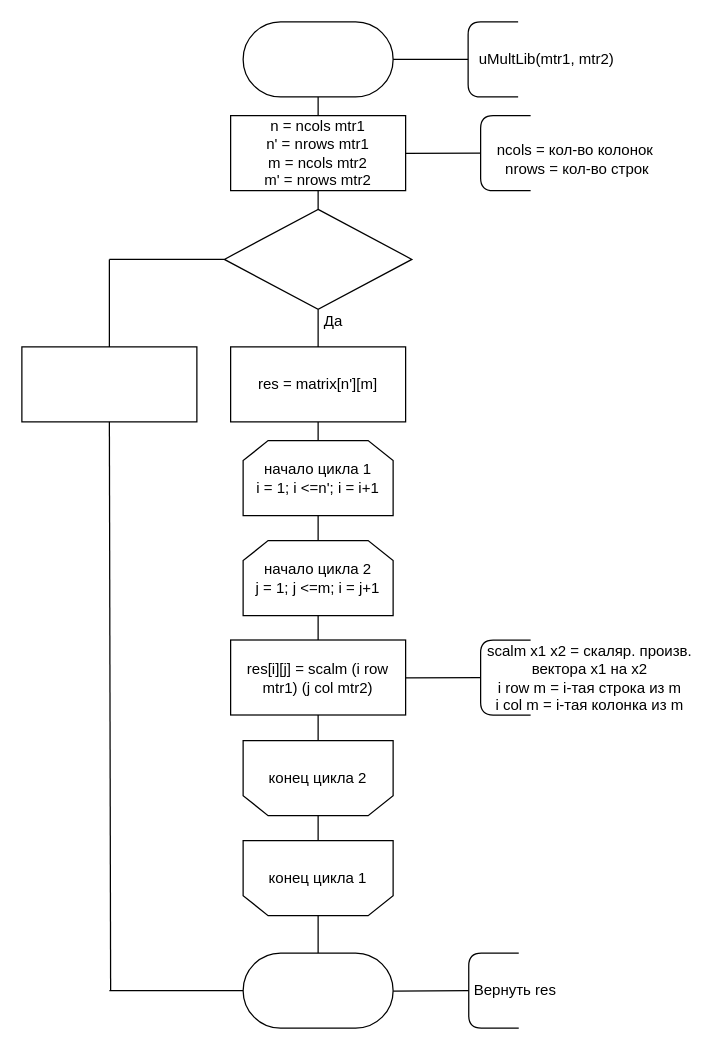
Some shapes in this 719 by 1051 pixel diagram are drawn without their labels. The shapes that lost their labels are listed below. From the top down, each one's centre as x and y in pixels, then its label:
the point at 317,59: Начало
the point at 317,258: n == m?
the point at 109,384: res = error
the point at 317,990: Конец
